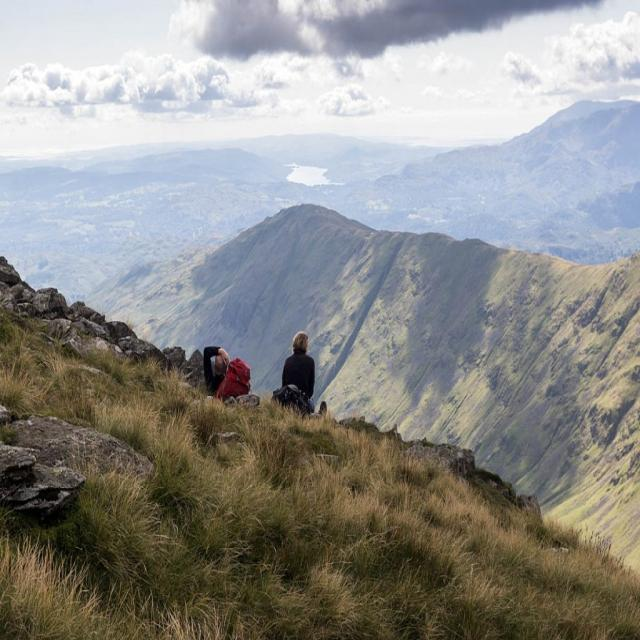loitering: (275, 323, 326, 413), (198, 333, 258, 404)
